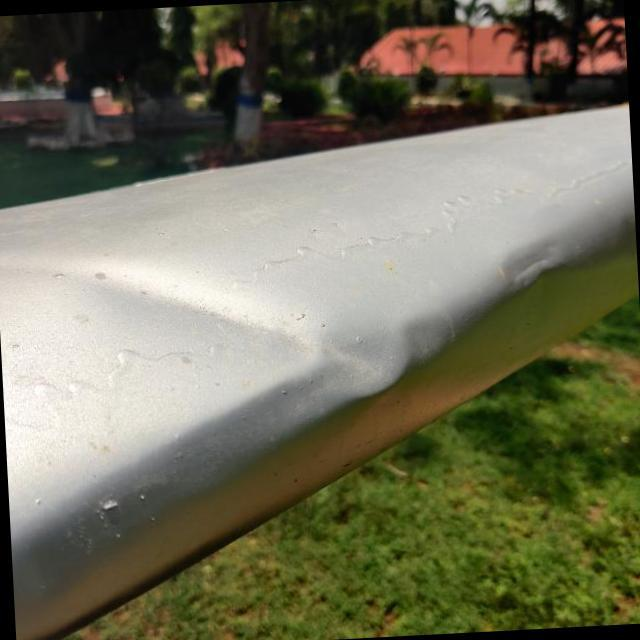Dent: (101, 238, 430, 438), (486, 222, 571, 302)
